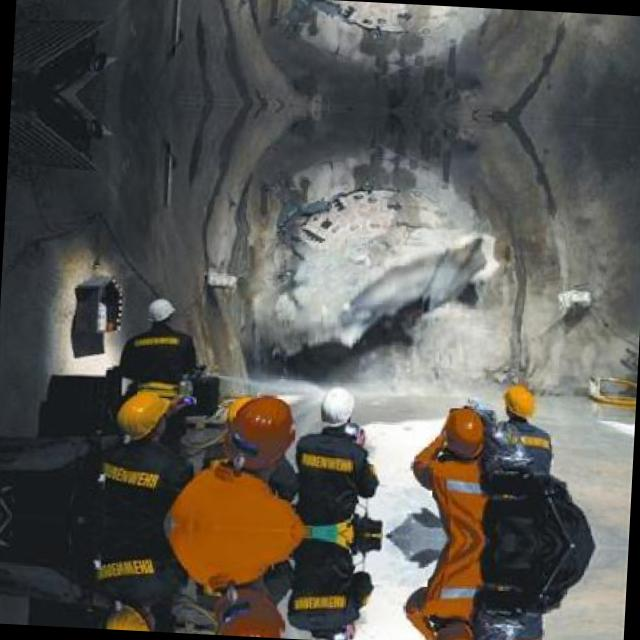helmet: (220, 386, 298, 470), (118, 384, 188, 442), (211, 587, 287, 637), (436, 399, 491, 459), (316, 382, 361, 432), (108, 603, 178, 631), (501, 377, 540, 422), (426, 618, 481, 640), (144, 296, 179, 327)
